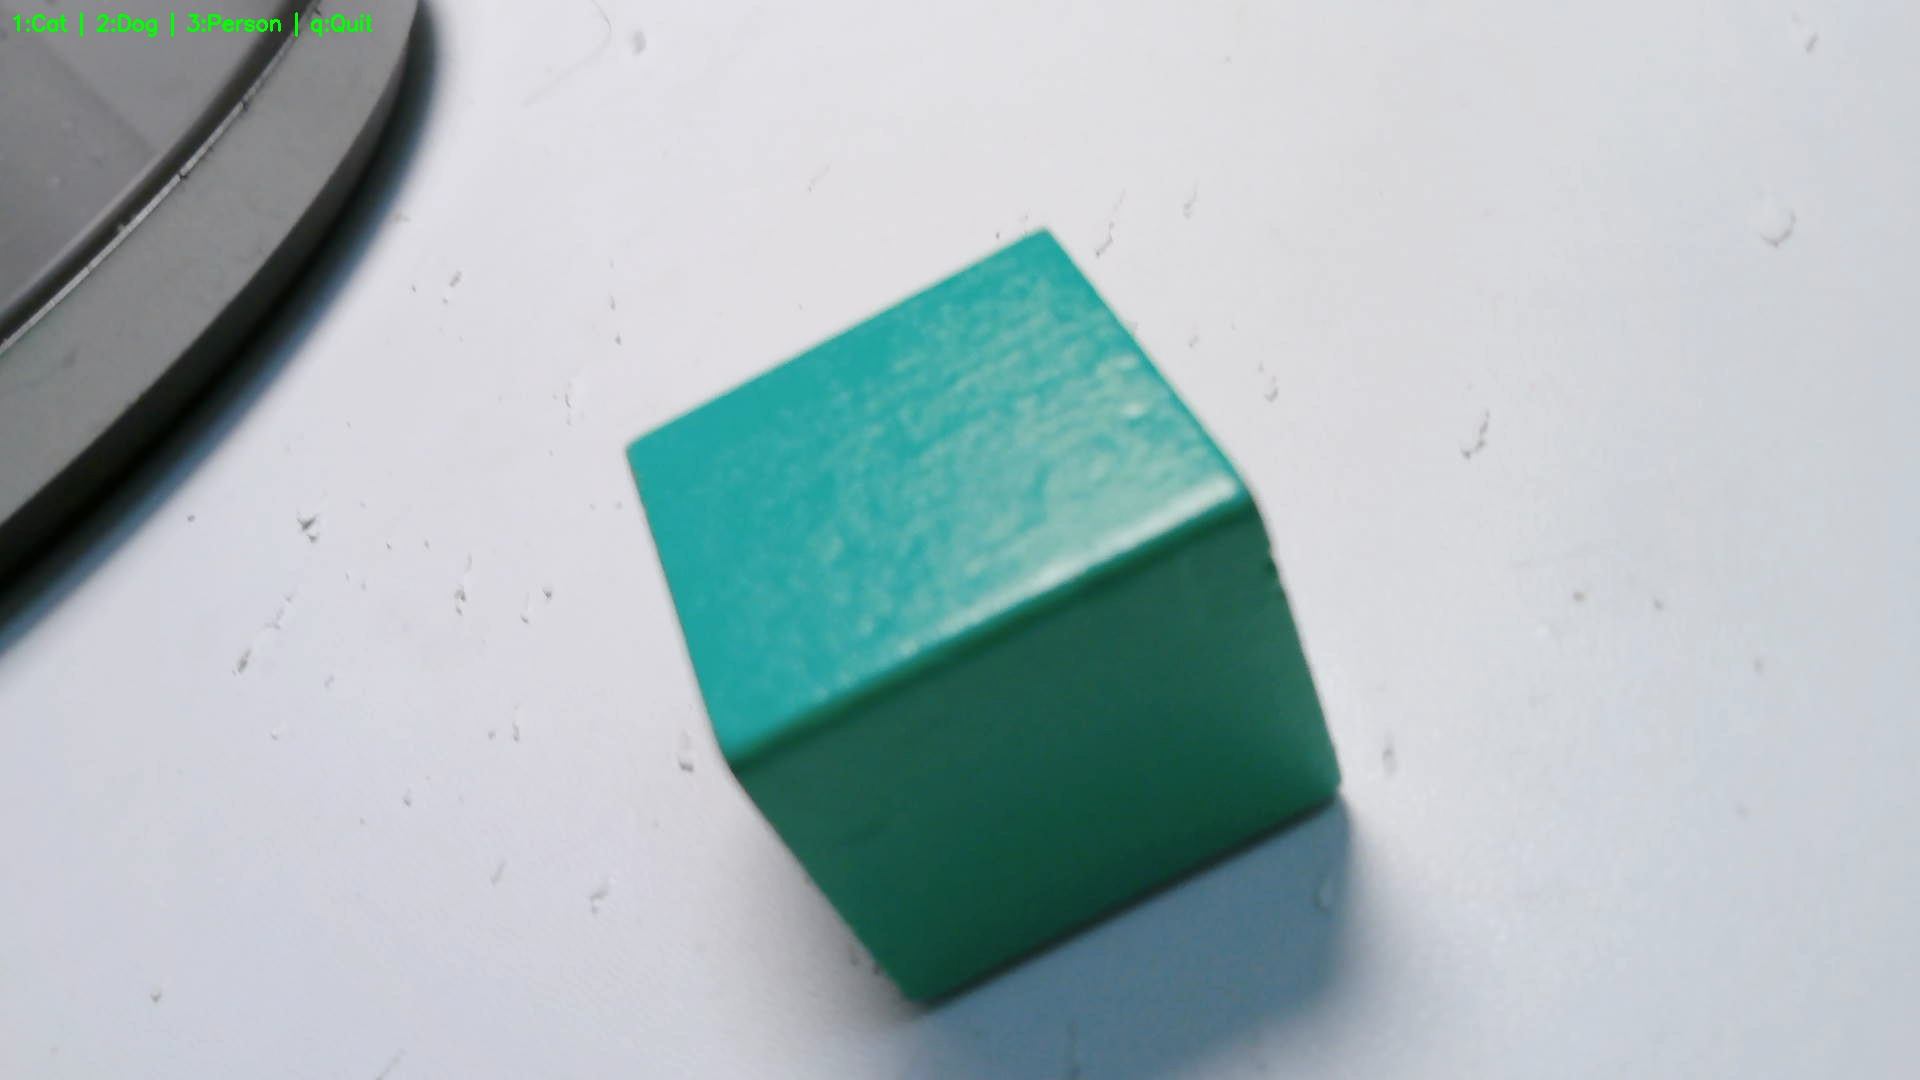green: (626, 231, 1342, 1015)
